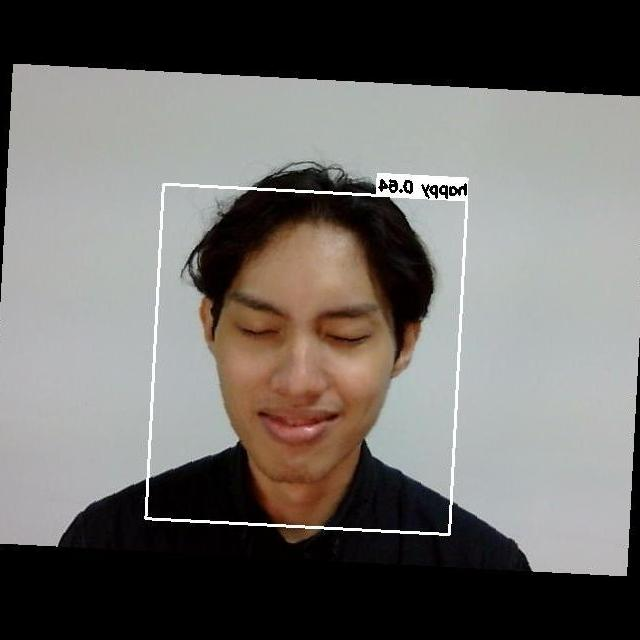Sad: (212, 273, 385, 456)
